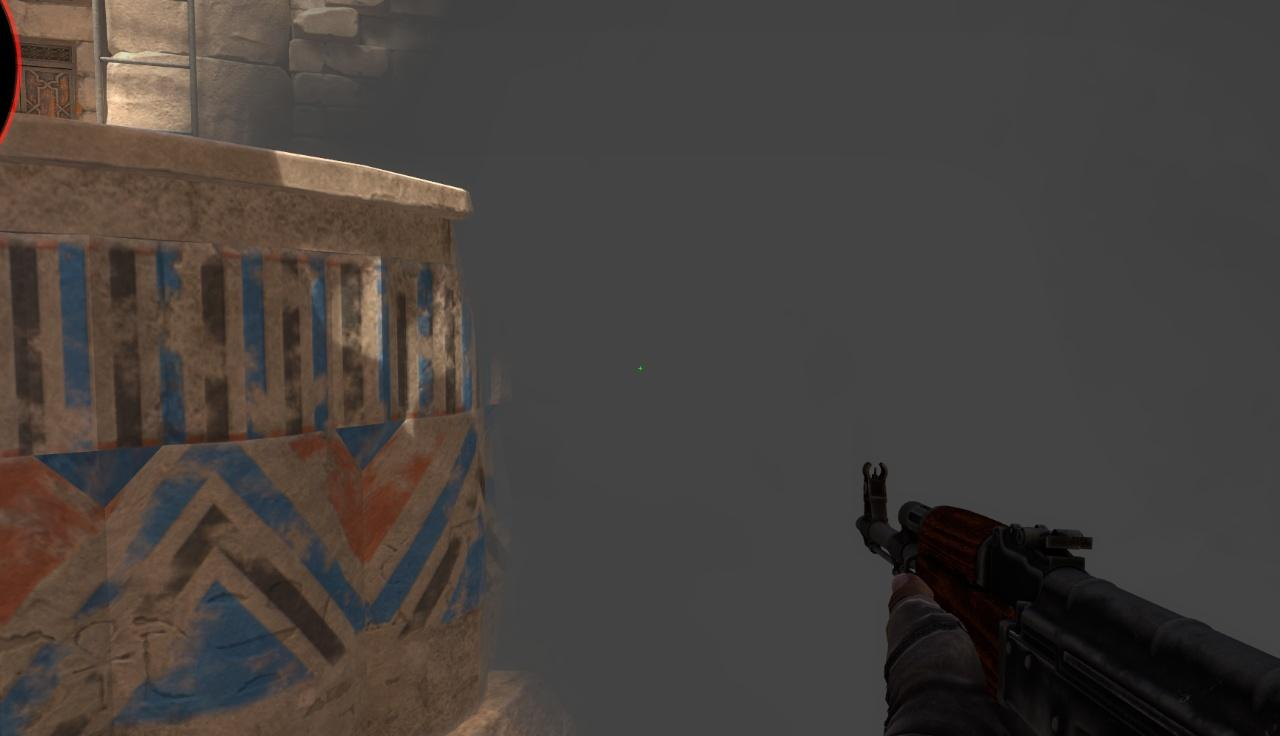rifle: (864, 466, 1280, 736)
